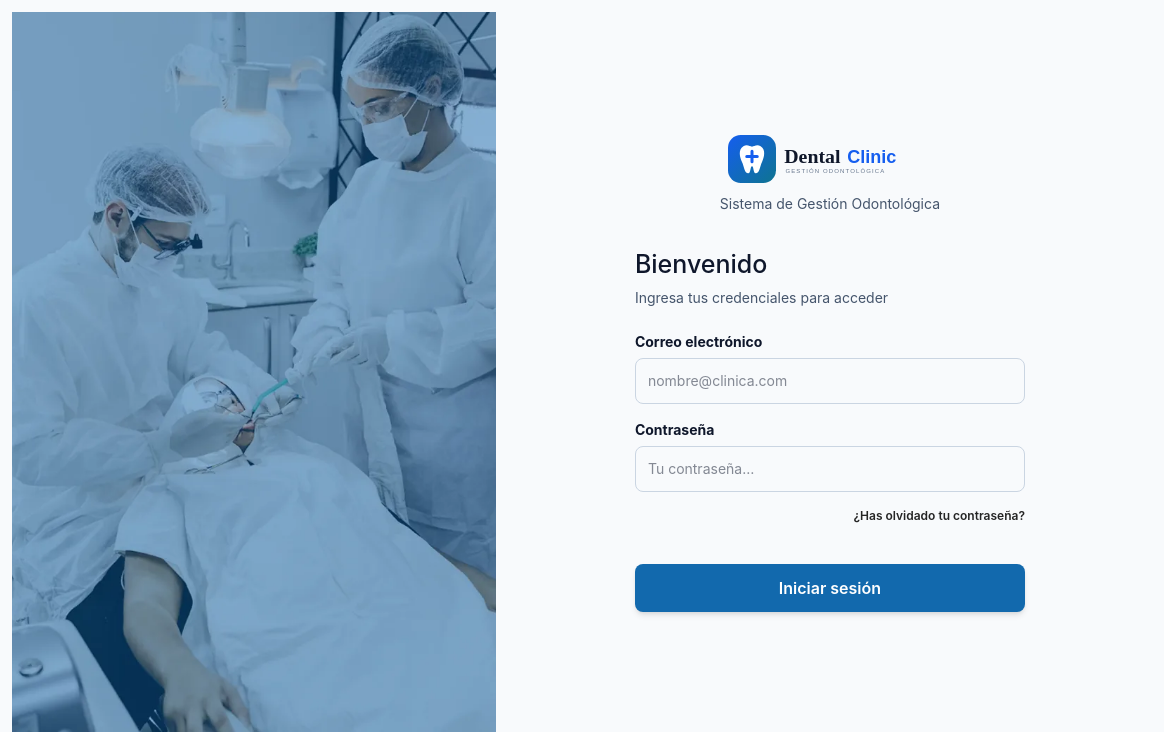
Test: LoginPage › validates empty credentials
Click the button "Iniciar sesión".
click(830, 588)  # box 635,564 -> 1025,612
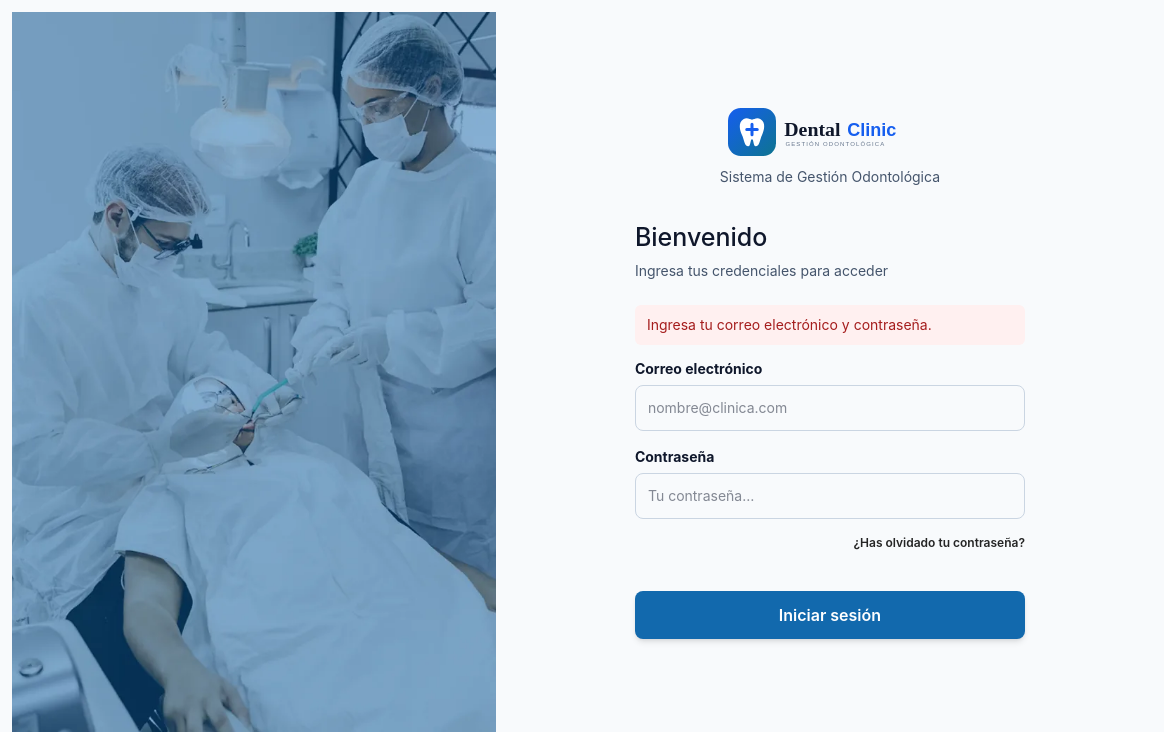
Expected: the message reads "Ingresa tu correo electrónico y contraseña.", 647,316 -> 932,333
